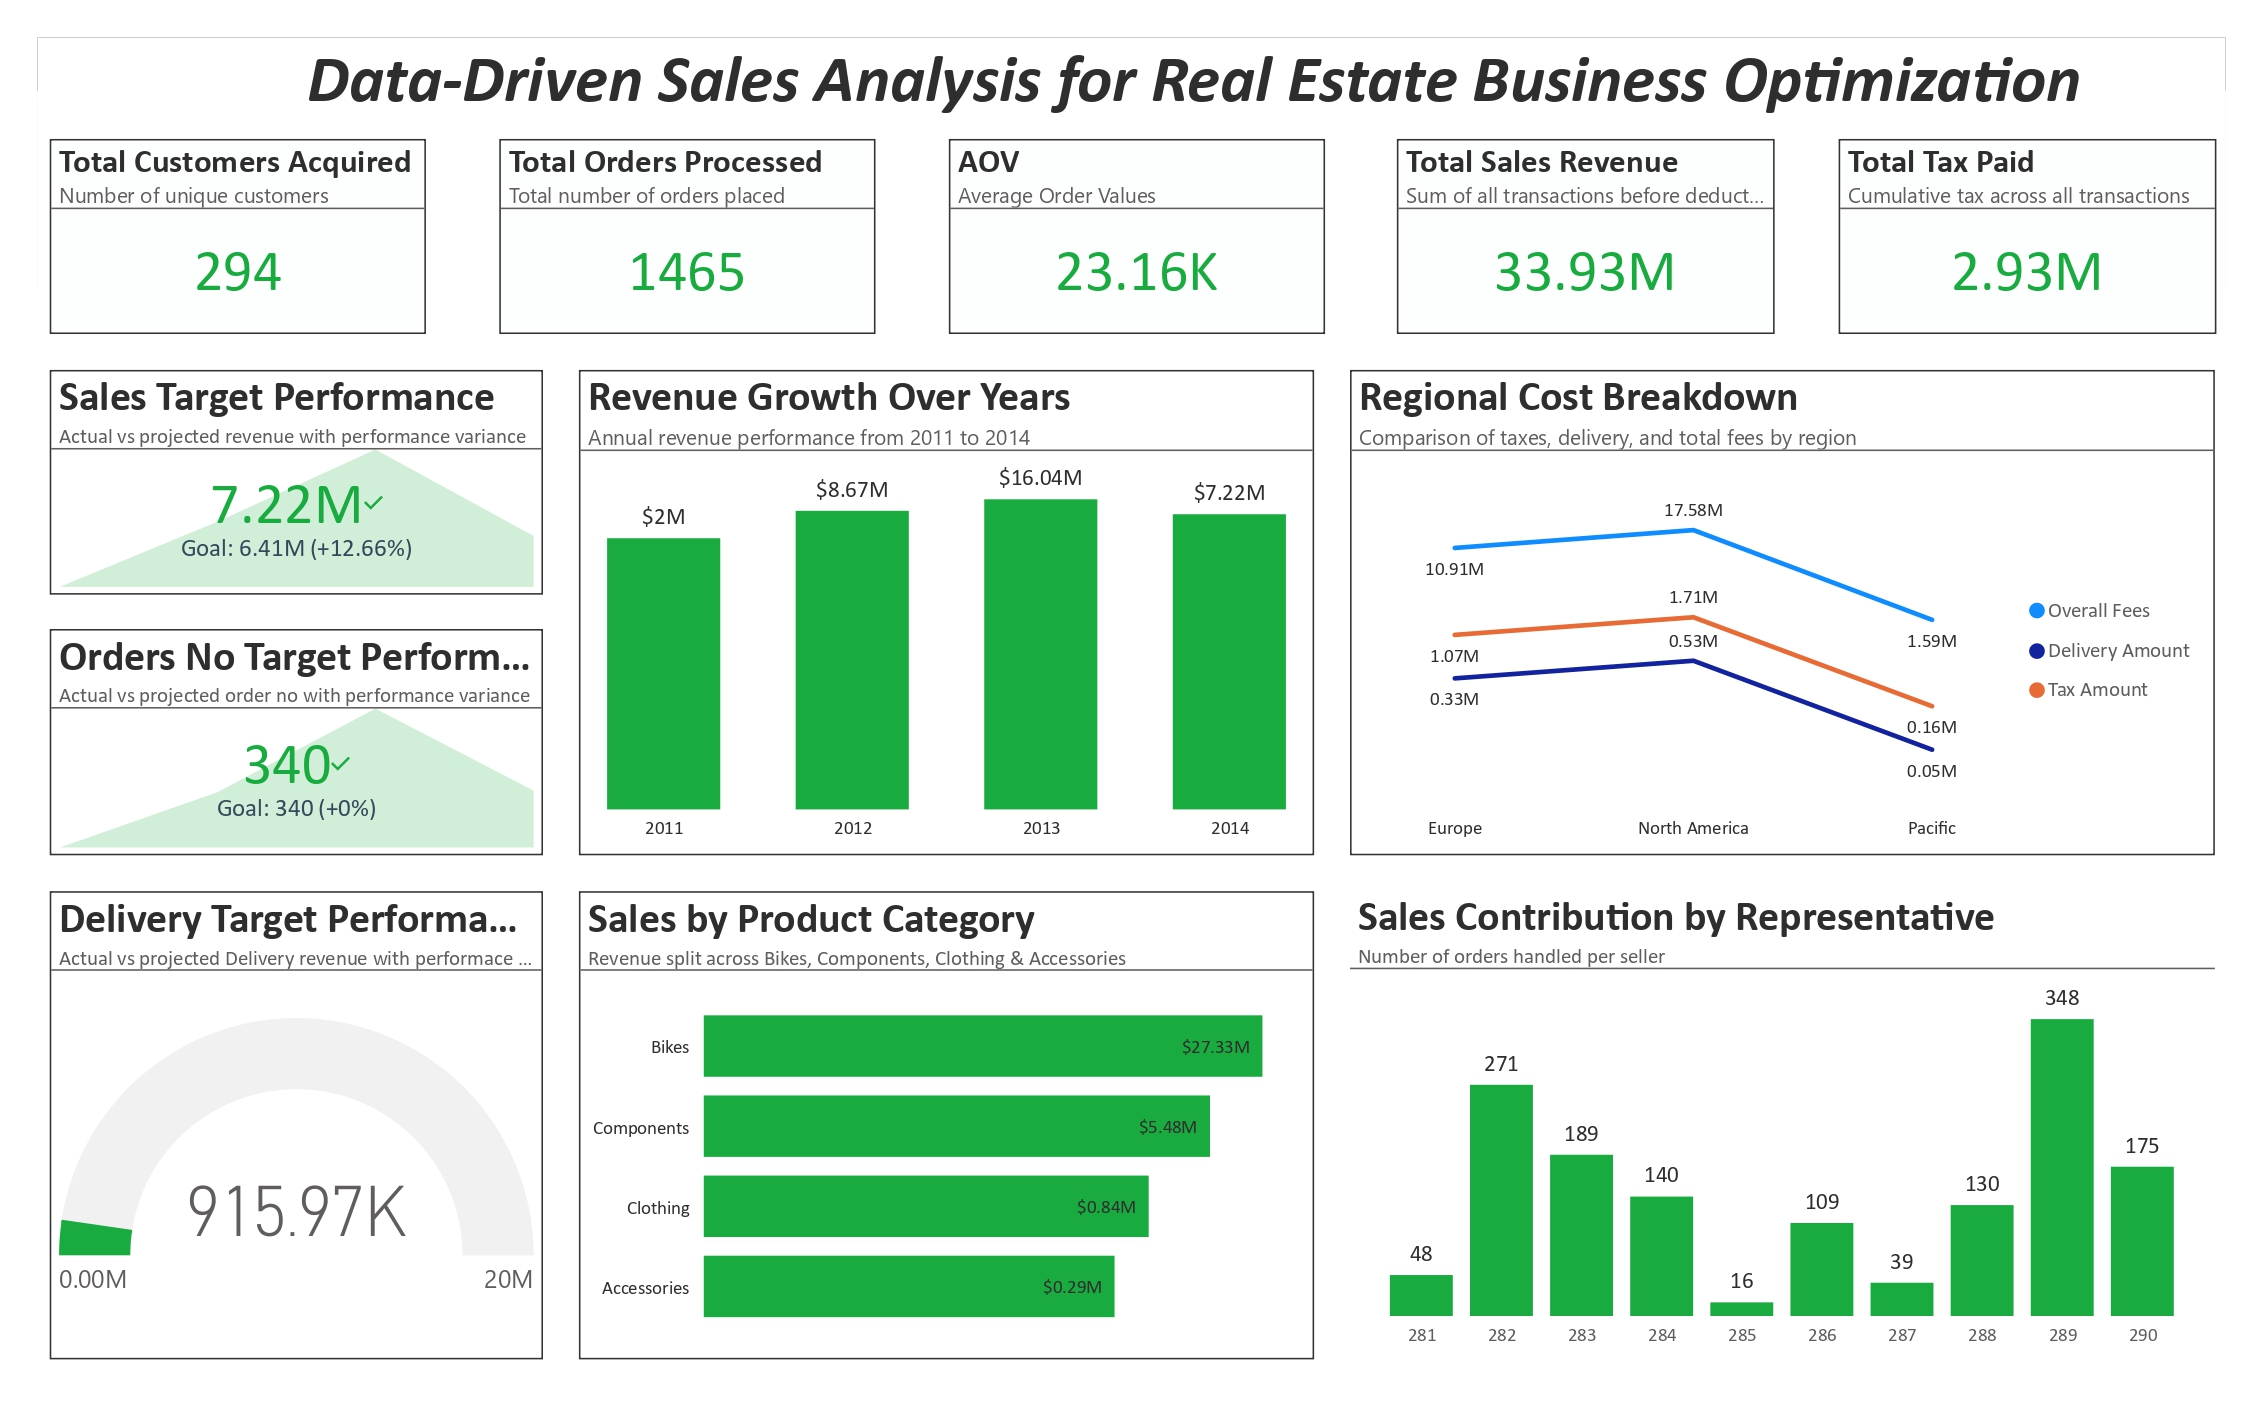

The page's visual inventory and layout, read from the dashboard file:
{"tool":"powerbi","page":{"name":"Page 1","canvas":[1400,850],"ordinal":0},"visuals":[{"type":"textbox","title":"Data-Driven Sales Analysis for Real Estate Business Optimization","box":[0,0,1480,65.7],"z":0},{"type":"columnChart","title":"Revenue Growth Over Years","fields":{"Category":["Sales.OrderDate.Variation.Date Hierarchy.Year","Sales.OrderDate.Variation.Date Hierarchy.Quarter","Sales.OrderDate.Variation.Date Hierarchy.Month"],"Y":["Sum(Sales.TotalDue)"]},"box":[345.7,212.9,471.4,311.4],"z":1000},{"type":"barChart","title":"Sales by Product Category","fields":{"Category":["Sales.ProductCategory","Sales.ProductSubCategory","Sales.Product"],"Y":["Sum(Sales.TotalDue)"]},"box":[345.7,547.1,471.4,300],"z":2000},{"type":"lineChart","title":"Regional Cost Breakdown","fields":{"Category":["Sales.TerritoryGroup Hierarchy.TerritoryGroup","Sales.TerritoryGroup Hierarchy.Territory"],"Y":["Sum(Sales.Order overall Fees)","Sum(Sales.Delivery)","Sum(Sales.TaxAmt)"]},"box":[840,212.9,554.3,311.4],"z":3000},{"type":"card","title":"Total Orders Processed","fields":{"Values":["Sales.Order Count"]},"box":[294.6,65,241.7,125],"z":5000},{"type":"card","title":"Total Tax Paid","fields":{"Values":["Sum(Sales.TaxAmt)"]},"box":[1153,65,241.7,125],"z":6000},{"type":"card","title":"Total Sales Revenue","fields":{"Values":["Sales.Total Sales Revenue"]},"box":[870.4,65,241.7,125],"z":7000},{"type":"card","title":"AOV","fields":{"Values":["Sales.Average Order Value"]},"box":[582.5,65,241.7,125],"z":8000},{"type":"card","title":"Total Customers Acquired","fields":{"Values":["Count(Sales.CustomerID)"]},"box":[6.7,65,241.7,125],"z":9000},{"type":"kpi","title":"Sales Target Performance","fields":{"Goal":["Sum(Sales.Order overall Fees)"],"Indicator":["Sales.Total Sales Revenue"],"TrendLine":["Sales.OrderDate.Variation.Date Hierarchy.Year"]},"box":[7.1,212.9,315.7,144.3],"z":10000},{"type":"kpi","title":"Orders No Target Performance","fields":{"Indicator":["Sales.Order Count"],"Goal":["Sales.Order Count"],"TrendLine":["Sales.OrderDate.Variation.Date Hierarchy.Year"]},"box":[7.1,378.6,315.7,145.7],"z":11000},{"type":"gauge","title":"Delivery Target Performance","fields":{"Y":["Sum(Sales.Delivery)"],"TargetValue":["Sum(Sales.Delivery)"],"MaxValue":["Sum(Sales.ProductID)"]},"box":[7.1,547.1,315.7,300],"z":12000},{"type":"columnChart","title":"Sales Contribution by Representative","fields":{"Category":["Sales.SalesPersonID","Sales.OrderDate.Variation.Date Hierarchy.Year"],"Y":["Count(Sales.OrderID)"]},"box":[840,547,554,300],"z":13000}]}

Visuals, with their boxes in screenshot pixels (x1, y1, x2, y2), scaled from the page's 1400x850 canvas onto the 2263x1402 screenshot:
"Data-Driven Sales Analysis for Real Estate Business Optimization" textbox: BBox(0, 0, 2262, 108)
"Revenue Growth Over Years" columnChart: BBox(559, 351, 1321, 865)
"Sales by Product Category" barChart: BBox(559, 902, 1321, 1397)
"Regional Cost Breakdown" lineChart: BBox(1358, 351, 2254, 865)
"Total Orders Processed" card: BBox(476, 107, 867, 313)
"Total Tax Paid" card: BBox(1864, 107, 2254, 313)
"Total Sales Revenue" card: BBox(1407, 107, 1798, 313)
"AOV" card: BBox(942, 107, 1332, 313)
"Total Customers Acquired" card: BBox(11, 107, 402, 313)
"Sales Target Performance" kpi: BBox(11, 351, 522, 589)
"Orders No Target Performance" kpi: BBox(11, 624, 522, 865)
"Delivery Target Performance" gauge: BBox(11, 902, 522, 1397)
"Sales Contribution by Representative" columnChart: BBox(1358, 902, 2253, 1397)
